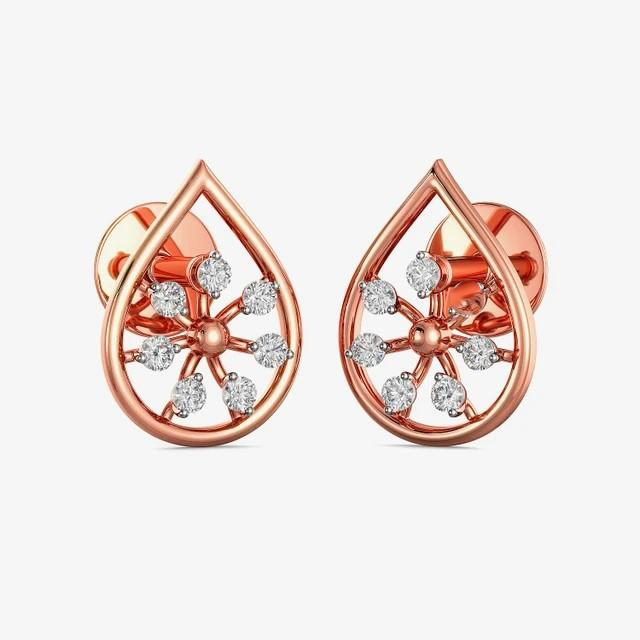missing gem: (450, 280, 485, 317)
